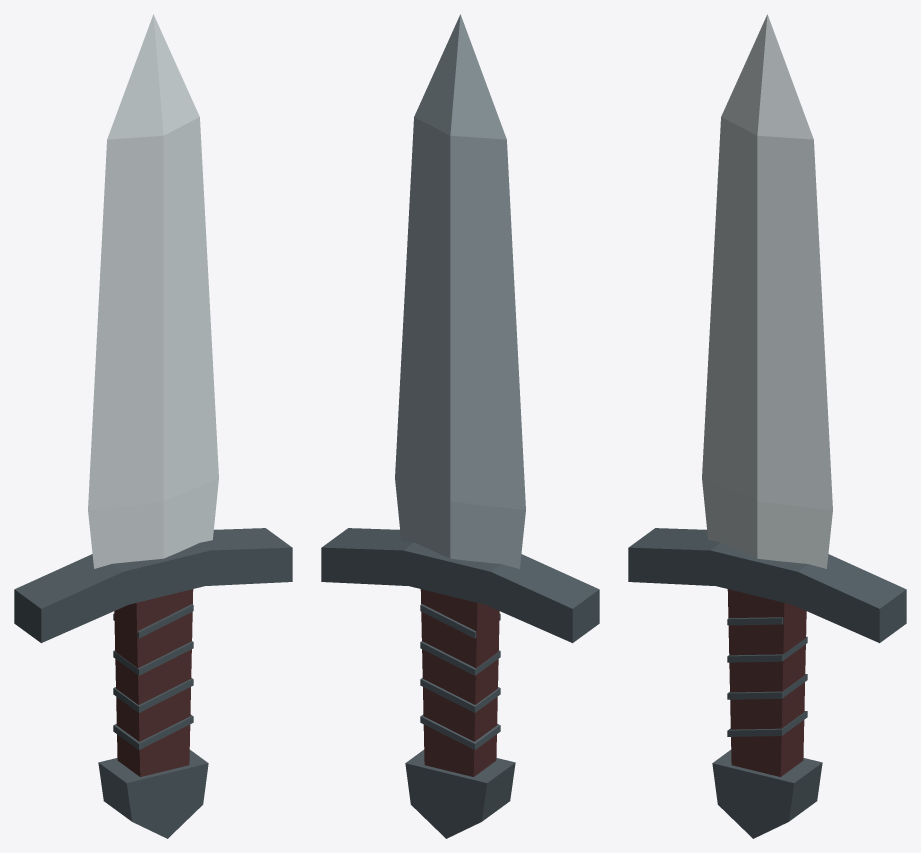
The model's file is training-blade.glb.
3 renders of one model, left to right at view 1: azimuth 30°, elevation 25°; view 2: azimuth 150°, elevation 25°; view 3: azimuth 330°, elevation 25°, orthographic.
Parts seen in each view (by area): view 1: trainingBlade | blade; view 2: trainingBlade | blade; view 3: trainingBlade | blade.
Part boxes in pixels (box(x1,y1,x2,y2)): trainingBlade | blade: box(14, 14, 292, 838); trainingBlade | blade: box(321, 14, 599, 838); trainingBlade | blade: box(628, 14, 906, 838).
Bounding box in the file's own units: 0.2392 × 0.741 × 0.0468.
Materials: 1 (1 with a texture image).
